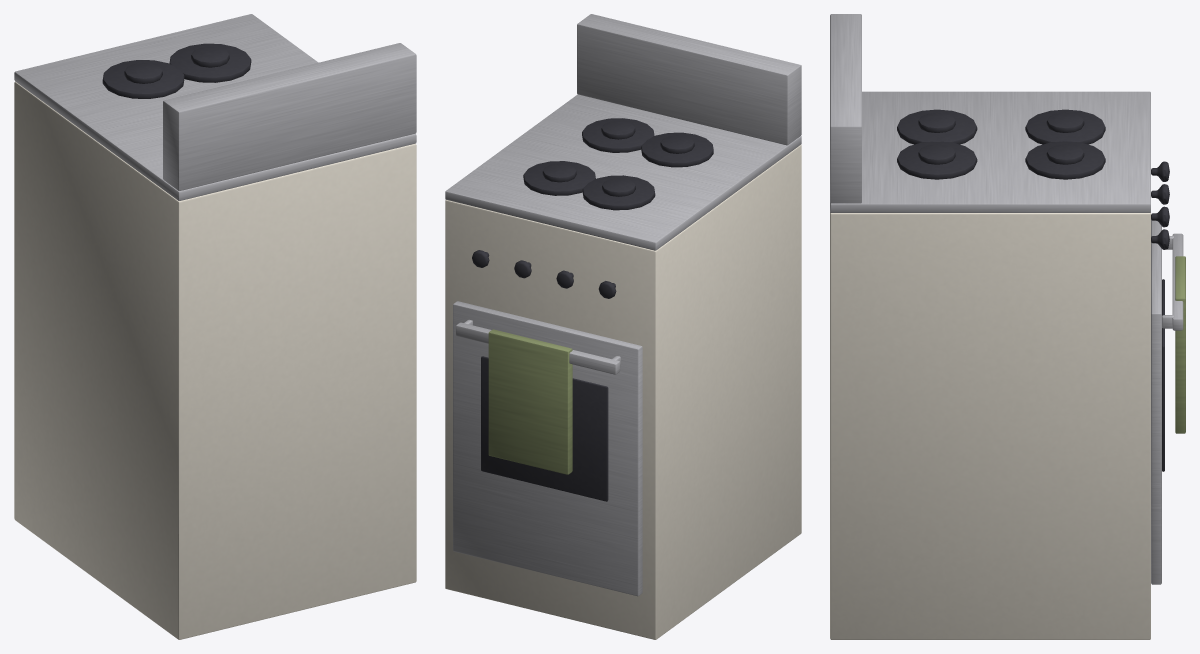
The model's file is SM_Stove_05.fbx.
3 views of the same model, side by side, from view 1: azimuth 30°, elevation 25°; view 2: azimuth 150°, elevation 25°; view 3: azimuth 270°, elevation 25° (orthographic). The views are drawn at different scales.
Parts seen in each view (by area): view 1: SM_Stove_05; view 2: SM_Stove_05; view 3: SM_Stove_05.
Part boxes in pixels (x1,y1,x2,y2): SM_Stove_05: [14, 14, 416, 639]; SM_Stove_05: [445, 14, 801, 639]; SM_Stove_05: [830, 14, 1185, 639].
Size of what is drawn, in the model's own units: 0.5 by 1.06 by 0.665.
Materials: 4 (4 with a texture image).
